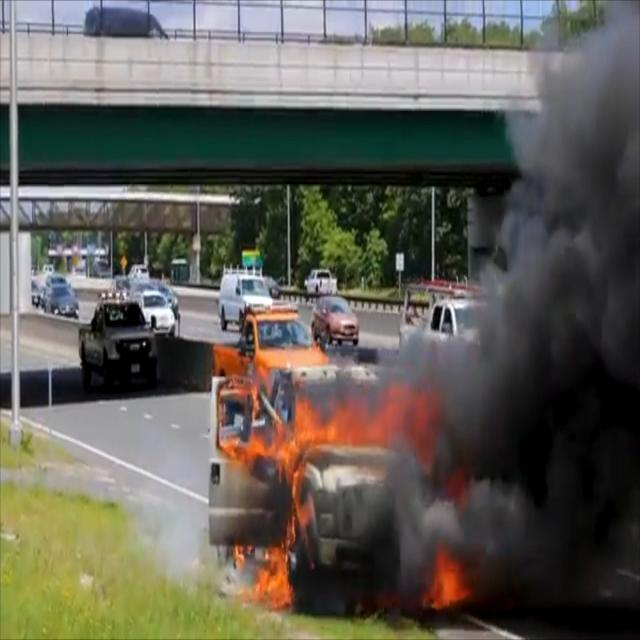fire: (214, 369, 476, 616)
